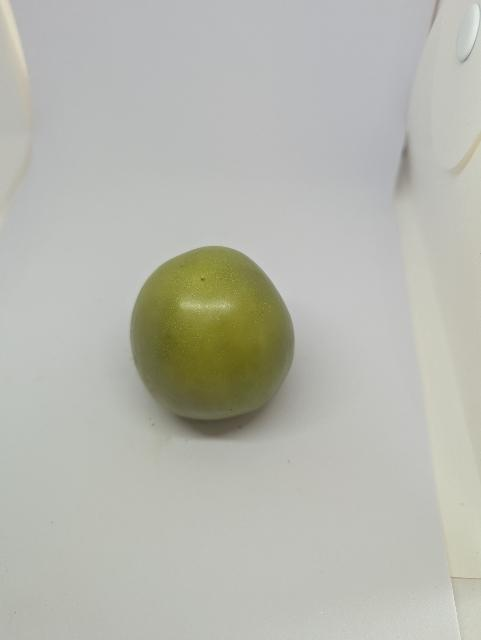green: (119, 242, 311, 426)
